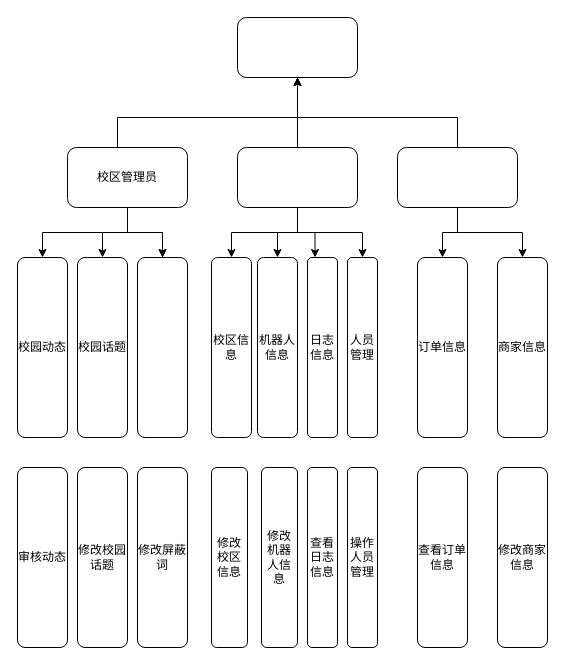
Some shapes in this 565 by 665 pixel diagram are drawn without their labels. Each missing label, with the box of its shape:
商户: (396, 146, 518, 208)
屏蔽词: (136, 256, 188, 438)
管理端: (236, 16, 358, 78)
超级管理员: (236, 146, 358, 208)
